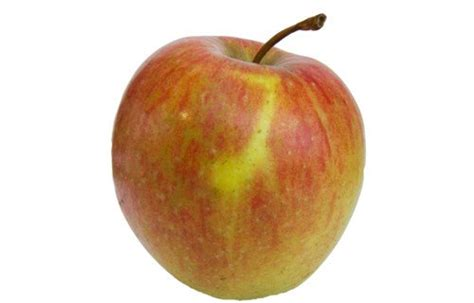apple: (106, 25, 369, 303)
